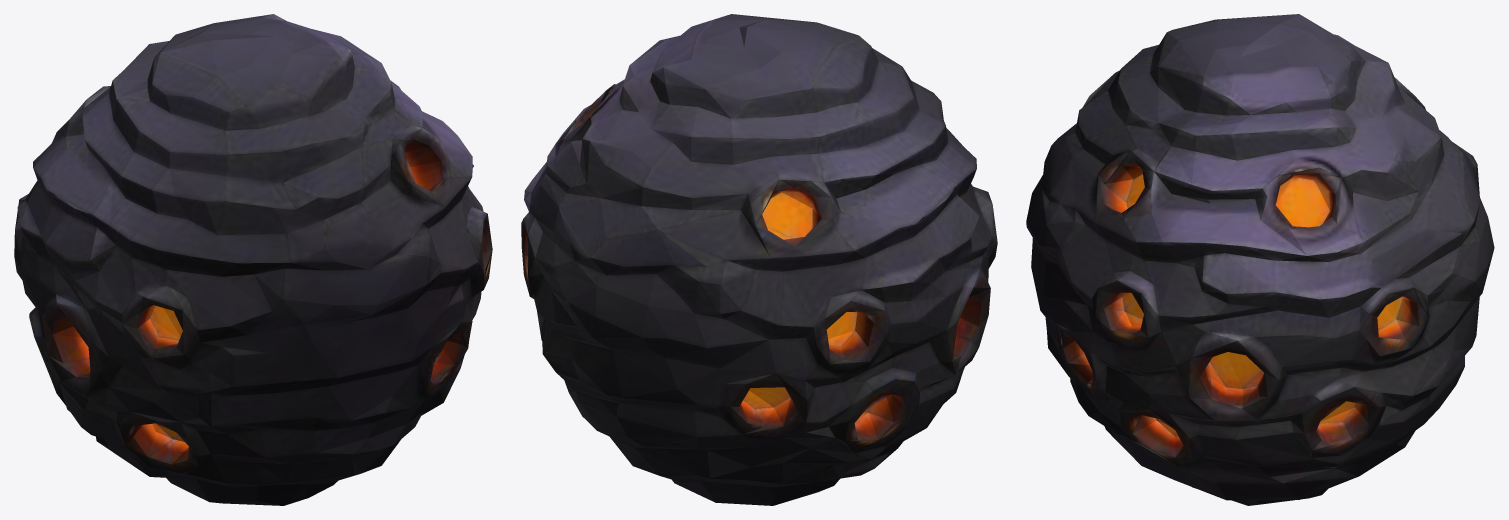
The model's file is foe_waspNest.glb.
The picture shows the model from 3 angles, left to right: view 1: azimuth 30°, elevation 25°; view 2: azimuth 150°, elevation 25°; view 3: azimuth 270°, elevation 25°; orthographic projection.
Parts seen in each view (by area): view 1: tripo_node_7d6203d9-c880-4bde-a0a2-17f07b561f3a.001; view 2: tripo_node_7d6203d9-c880-4bde-a0a2-17f07b561f3a.001; view 3: tripo_node_7d6203d9-c880-4bde-a0a2-17f07b561f3a.001.
Boxes of the visible parts, x1,y1,x2,y2 form: tripo_node_7d6203d9-c880-4bde-a0a2-17f07b561f3a.001: (14,14,492,505); tripo_node_7d6203d9-c880-4bde-a0a2-17f07b561f3a.001: (521,14,997,505); tripo_node_7d6203d9-c880-4bde-a0a2-17f07b561f3a.001: (1026,14,1494,505).
Bounding box in the file's own units: 0.9585 × 0.9974 × 0.9588.
1 material, 1 textured.
